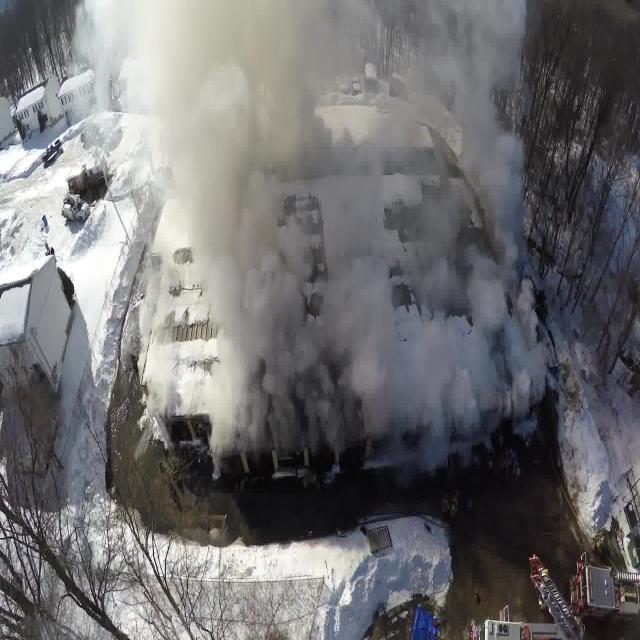Smoke: (164, 24, 526, 413)
